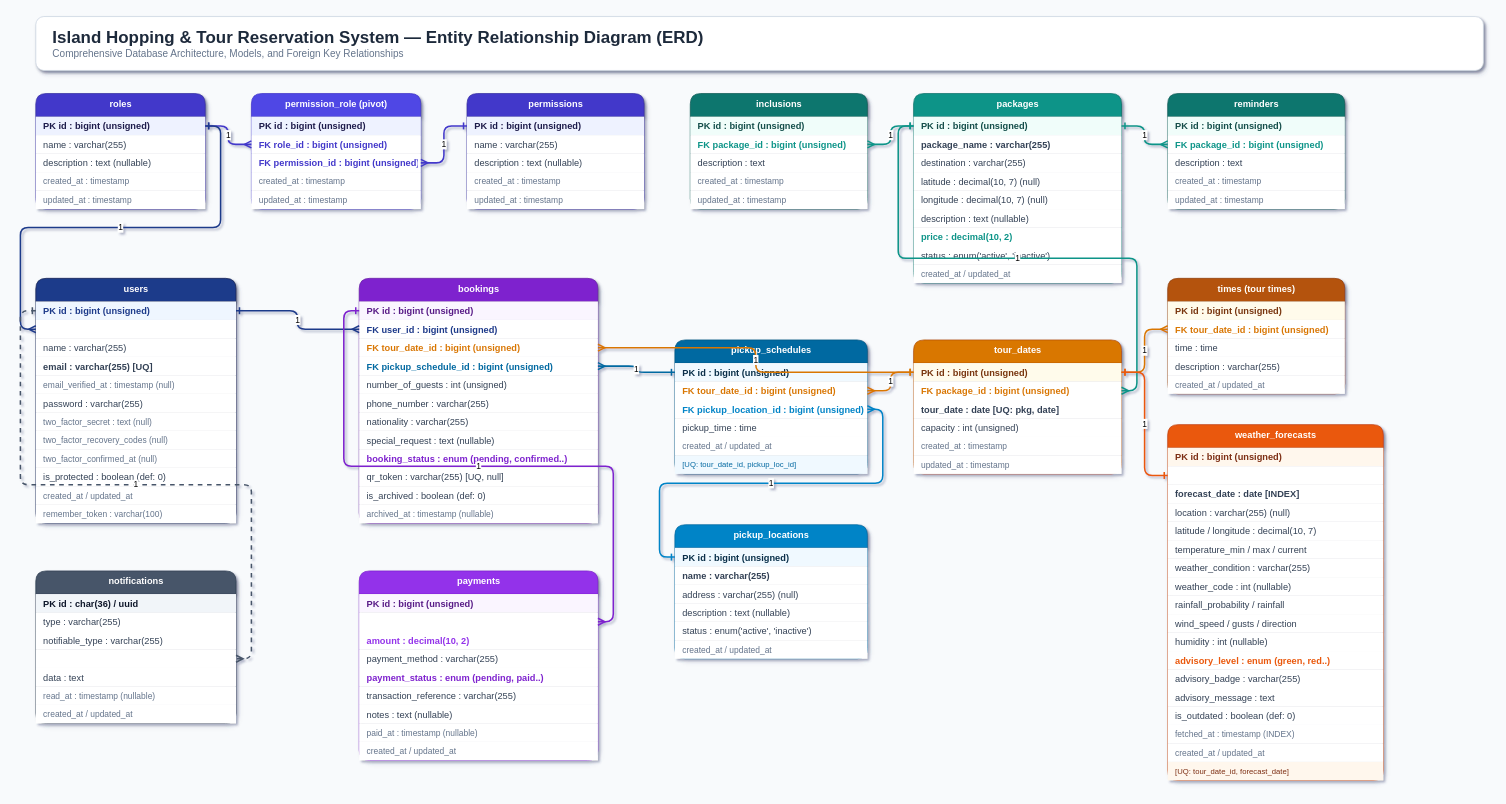
Image size: 1506x804. Some labels were removed from this diagram. The shapes that lost their labels are listed below. From the top down, each one's centre as x and y in pixels, then its label:
the point at 135,329: FK role_id : bigint (unsigned, nullable)
the point at 1275,475: FK tour_date_id : bigint (unsigned) [UQ]
the point at 478,621: FK booking_id : bigint (unsigned)
the point at 135,658: notifiable_id : bigint (unsigned)
